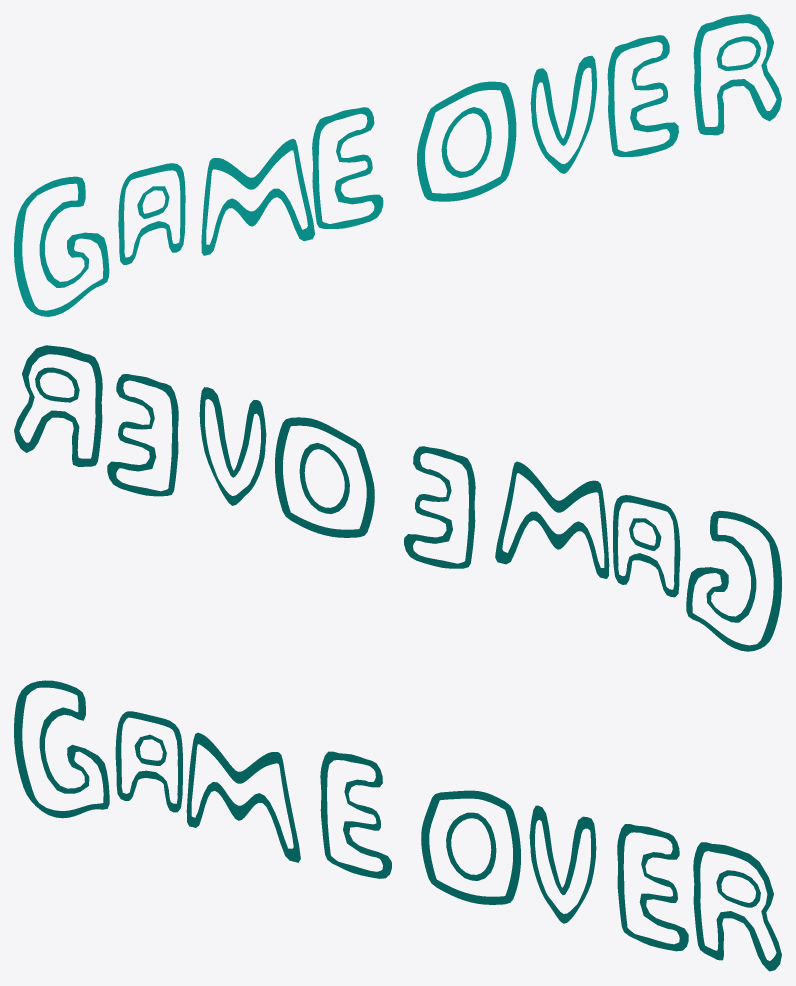
The model's file is mesh_text_gameover_alt.fbx.
The picture shows the model from 3 angles, top to bottom: view 1: azimuth 30°, elevation 25°; view 2: azimuth 150°, elevation 25°; view 3: azimuth 330°, elevation 25°; orthographic projection.
Visible parts, largest first — view 1: mesh_text_gameover_alt; view 2: mesh_text_gameover_alt; view 3: mesh_text_gameover_alt.
Boxes of the visible parts, x1,y1,x2,y2 form: mesh_text_gameover_alt: (14, 14, 781, 316); mesh_text_gameover_alt: (14, 345, 781, 651); mesh_text_gameover_alt: (14, 680, 781, 971).
Bounding box in the file's own units: 0.2214 × 0.0377 × 0.00565.
